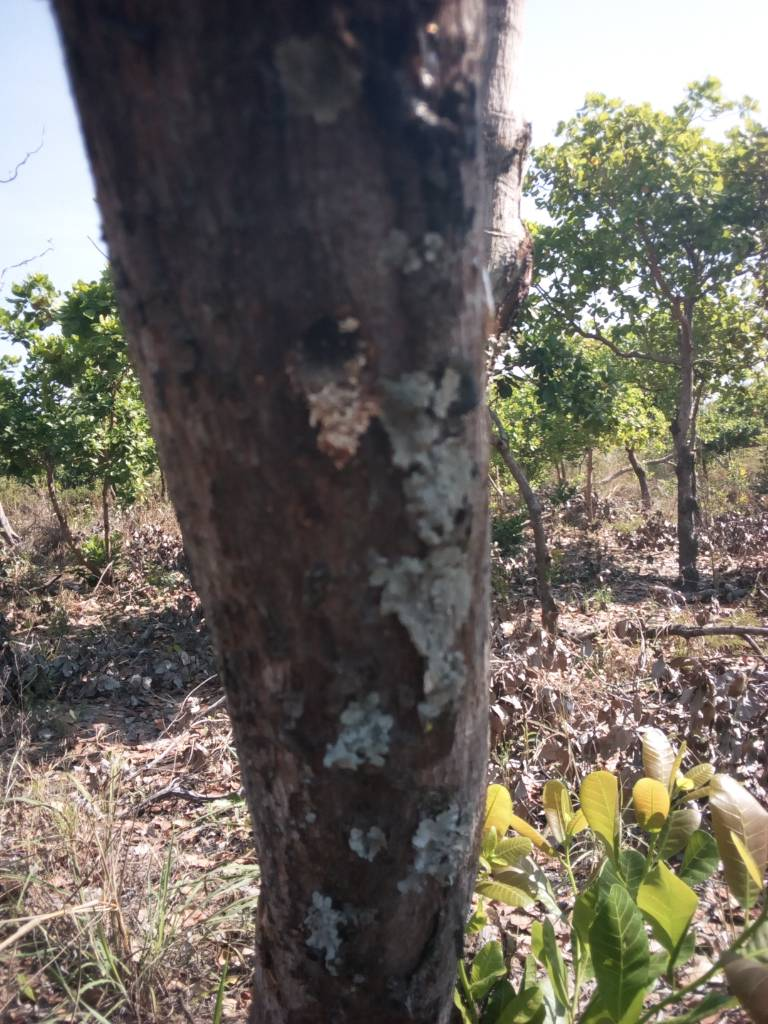Apate terebrans: (275, 292, 397, 392)
